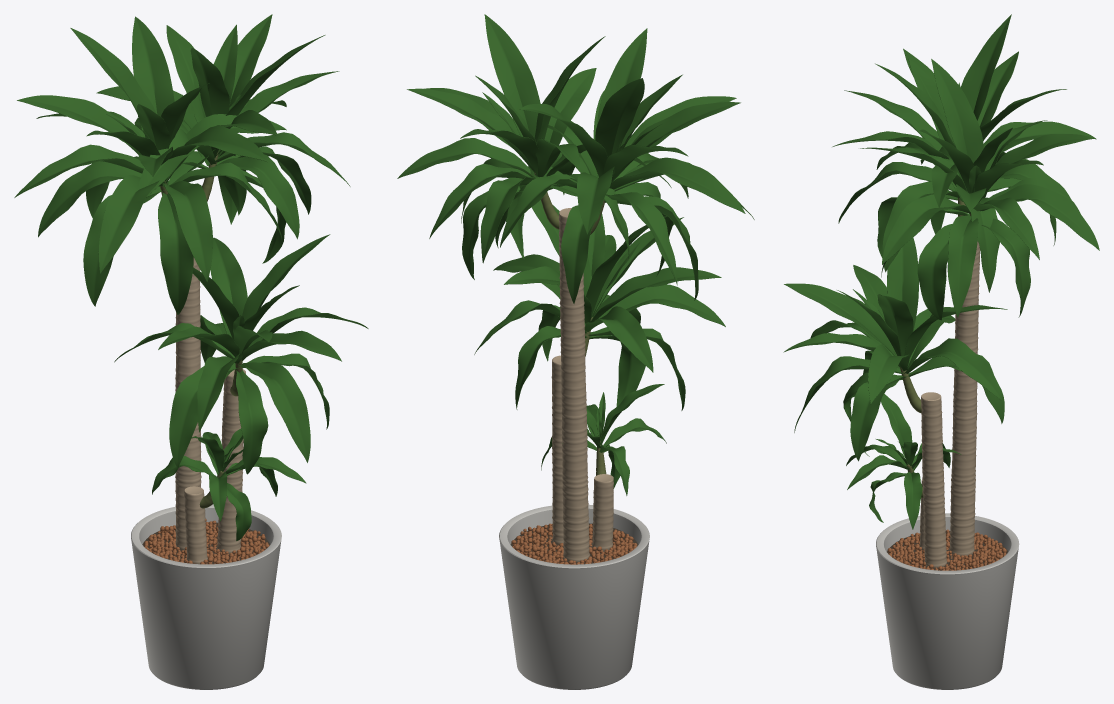
Rendered from corn_plant.glb.
3 renders of one model, left to right at view 1: azimuth 30°, elevation 25°; view 2: azimuth 150°, elevation 25°; view 3: azimuth 270°, elevation 25°, orthographic. The views are drawn at different scales.
Parts seen in each view (by area): view 1: plant_dracaena_leaves, plant_dracaena_pot, plant_dracaena_canes, plant_dracaena_pebbles, plant_dracaena_shoots; view 2: plant_dracaena_leaves, plant_dracaena_pot, plant_dracaena_canes, plant_dracaena_pebbles, plant_dracaena_shoots; view 3: plant_dracaena_leaves, plant_dracaena_pot, plant_dracaena_canes, plant_dracaena_pebbles, plant_dracaena_shoots.
Boxes of the visible parts, left/top/right/bottom form: plant_dracaena_leaves: left=14, top=14, right=368, bottom=540; plant_dracaena_pot: left=131, top=504, right=281, bottom=689; plant_dracaena_canes: left=175, top=257, right=245, bottom=564; plant_dracaena_pebbles: left=144, top=519, right=269, bottom=564; plant_dracaena_shoots: left=160, top=150, right=242, bottom=508; plant_dracaena_leaves: left=397, top=14, right=754, bottom=495; plant_dracaena_pot: left=499, top=504, right=649, bottom=689; plant_dracaena_canes: left=551, top=208, right=613, bottom=561; plant_dracaena_pebbles: left=511, top=523, right=637, bottom=564; plant_dracaena_shoots: left=534, top=172, right=606, bottom=475; plant_dracaena_leaves: left=783, top=14, right=1099, bottom=529; plant_dracaena_pot: left=876, top=513, right=1019, bottom=689; plant_dracaena_canes: left=919, top=241, right=980, bottom=567; plant_dracaena_pebbles: left=887, top=529, right=1006, bottom=570; plant_dracaena_shoots: left=900, top=198, right=971, bottom=497.
Size of the model in its own units: 0.9949 by 1.86 by 0.8784.
